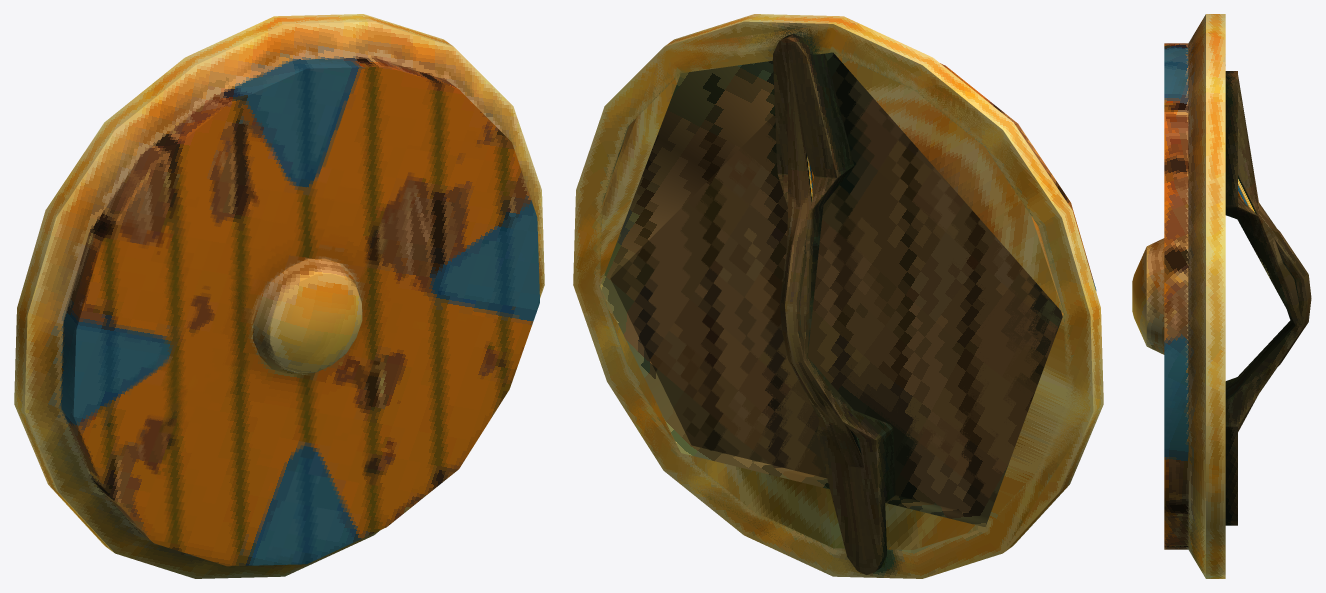
File: item_shield_viking_3.glb
3 views of the same model, side by side, from view 1: azimuth 30°, elevation 25°; view 2: azimuth 150°, elevation 25°; view 3: azimuth 270°, elevation 25° (orthographic). The views are drawn at different scales.
Visible parts, largest first — view 1: shield; view 2: shield; view 3: shield.
Part boxes in pixels (x1,y1,x2,y2): shield: (14,14,544,578); shield: (573,14,1103,578); shield: (1132,14,1311,578).
Size of the model in its own units: 0.532 by 0.5402 by 0.1686.
1 material, 1 textured.
